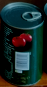tomatoes: (1, 1, 45, 87)
